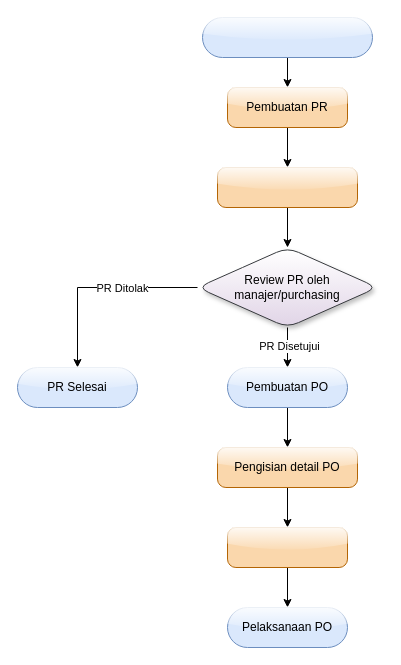
This 401x665 diagram has some shape labels left out. Each missing label, with the centre of its shape:
"Kebutuhan Barang" belongs at (x=287, y=37).
"Pencetakan PO" belongs at (x=287, y=547).
"Pengisian detail PR" belongs at (x=287, y=187).
